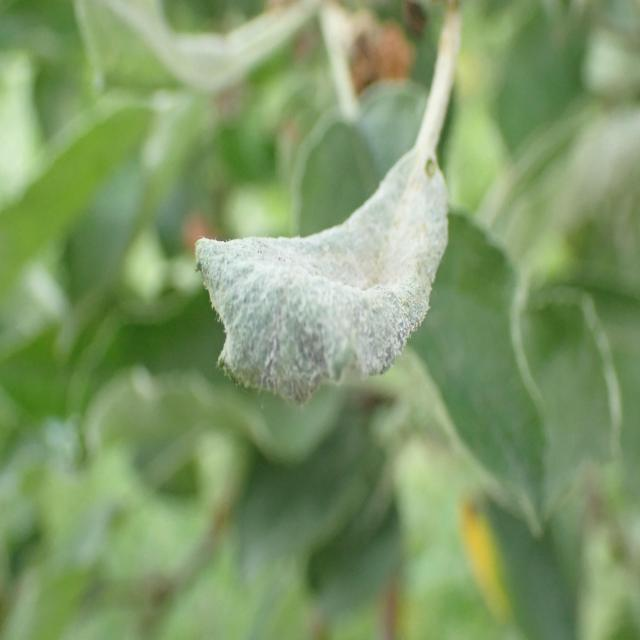Powdery_mildew: (194, 56, 456, 412)
